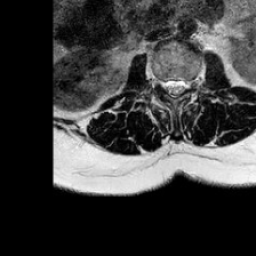CCS_normal: (171, 70, 178, 105)
LFS_normal: (186, 68, 194, 98)
LLS_normal: (178, 70, 186, 101)
RFS_normal: (156, 68, 163, 94)
RLS_normal: (163, 71, 171, 102)
